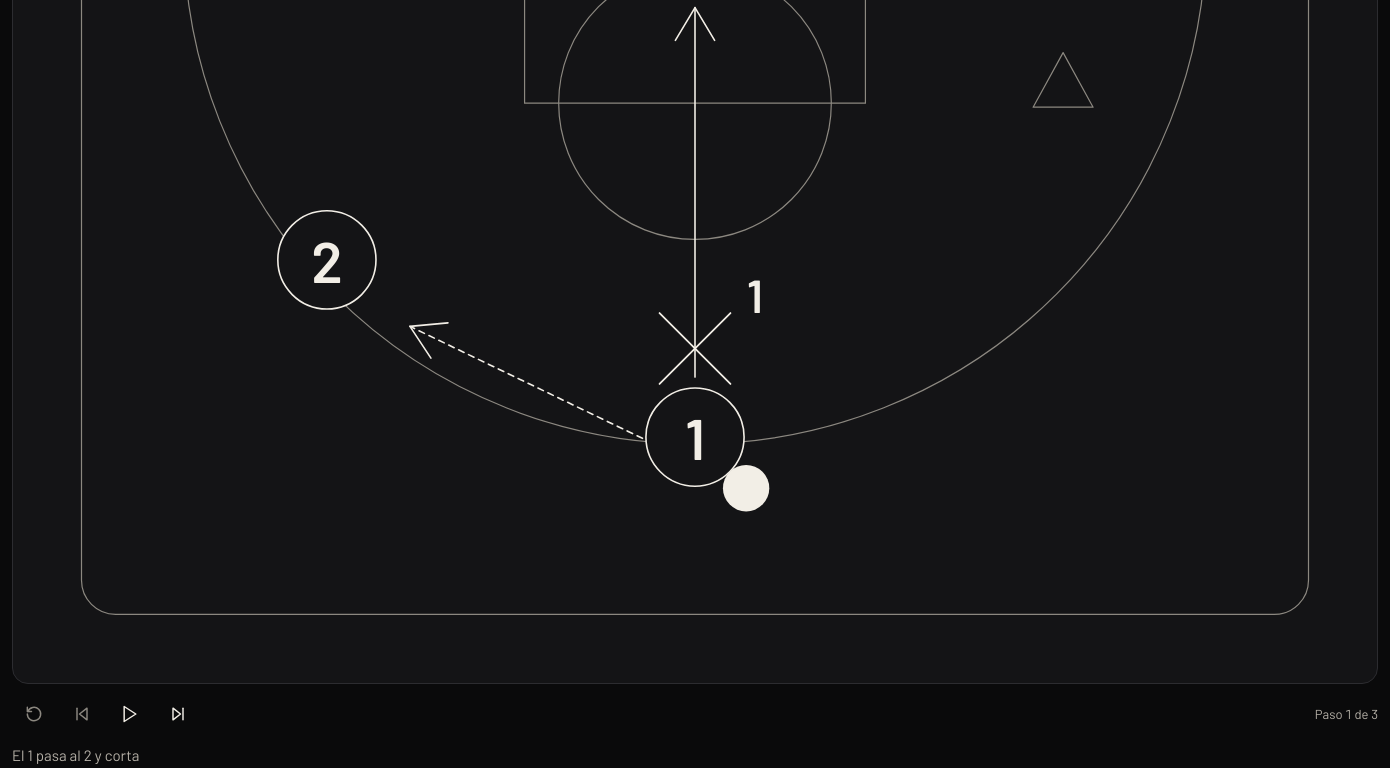
Test: Board, con pasos › un paso sin nota deja su región vacía, pero en el árbol
(page scrolled)
Click the button named "Paso siguiente" at [178, 714], box top-left (156, 692), bottom-right (200, 736)
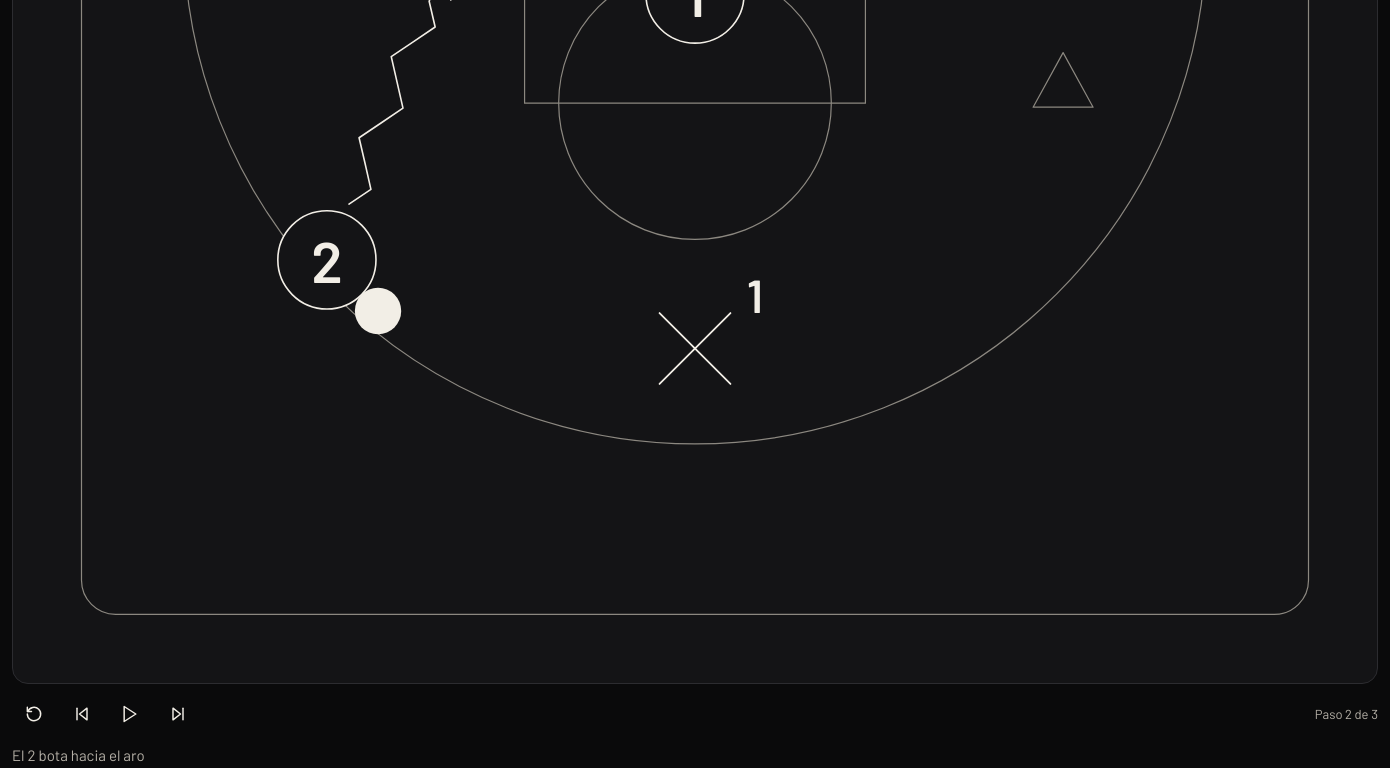
Click the button named "Paso siguiente" at [178, 714], box top-left (156, 692), bottom-right (200, 736)
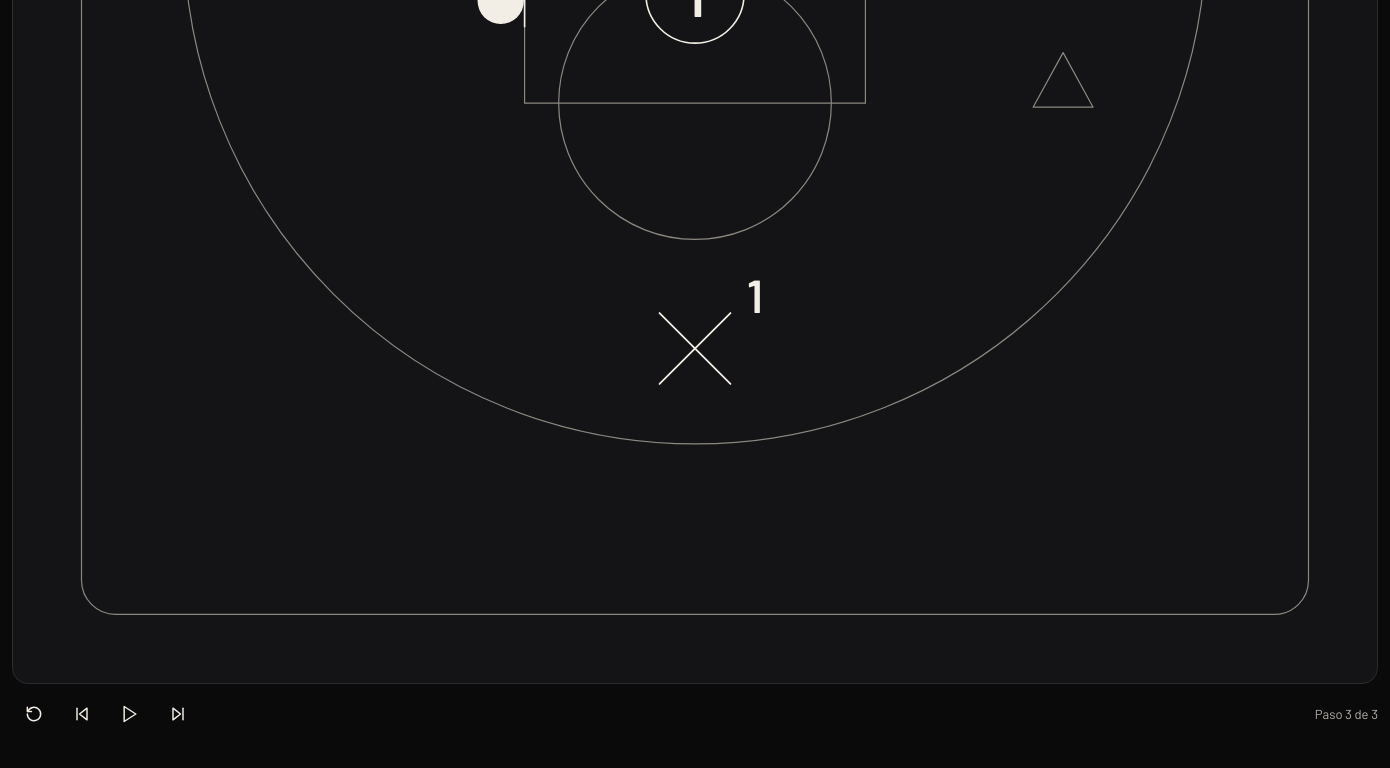
Expected: the 2nd message is empty, top-left (12, 744), bottom-right (1378, 767)
Expected: the text "Paso 3 de 3" is shown, top-left (1315, 704), bottom-right (1378, 722)
